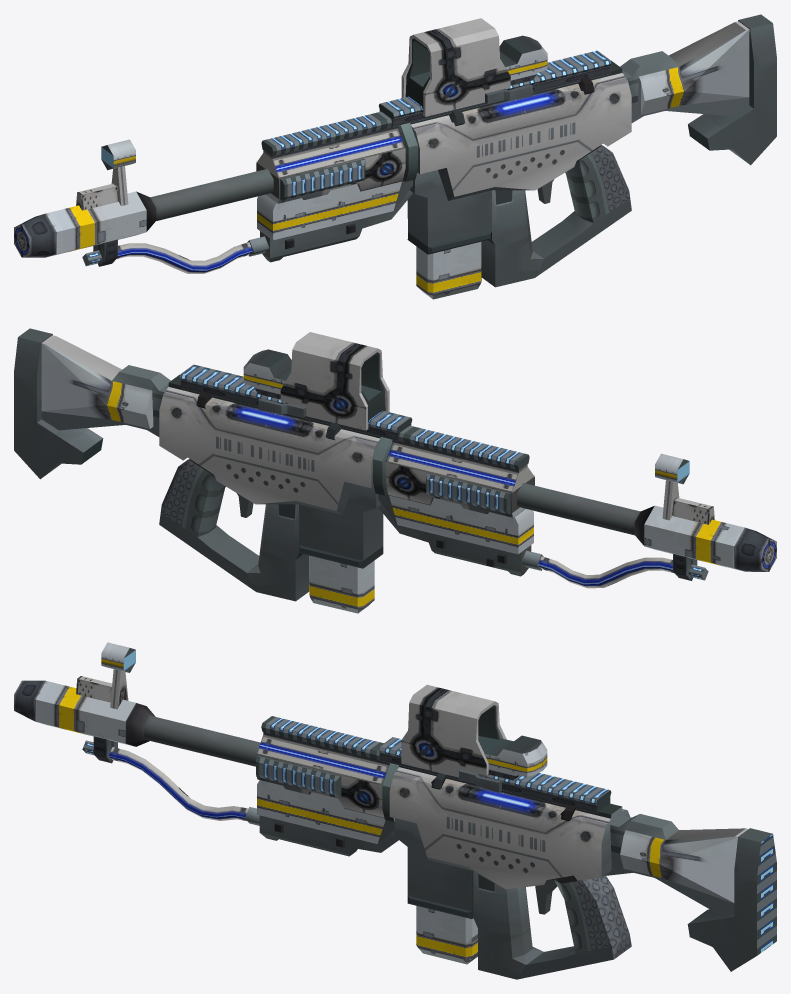
The model's file is AWP_03.FBX.
3 views of the same model, one above another, from view 1: azimuth 30°, elevation 25°; view 2: azimuth 150°, elevation 25°; view 3: azimuth 330°, elevation 25° (orthographic).
Visible parts, largest first — view 1: M4X; view 2: M4X; view 3: M4X.
Part boxes in pixels (x1=…): M4X: x1=14, y1=14, x2=776, y2=299; M4X: x1=14, y1=328, x2=776, y2=613; M4X: x1=14, y1=642, x2=776, y2=979.
Size of the model in its own units: 482 by 159 by 37.82.
